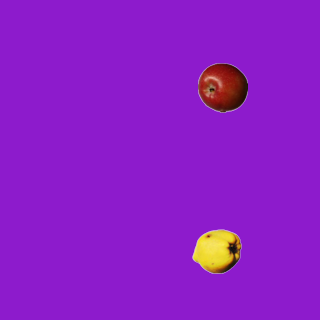Apple Braeburn: (197, 62, 247, 112)
Quince: (191, 226, 241, 276)
